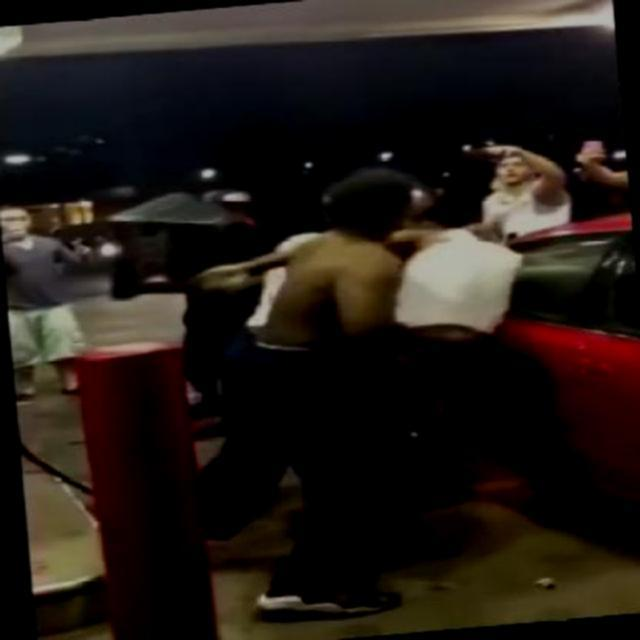fight: (202, 166, 542, 560)
